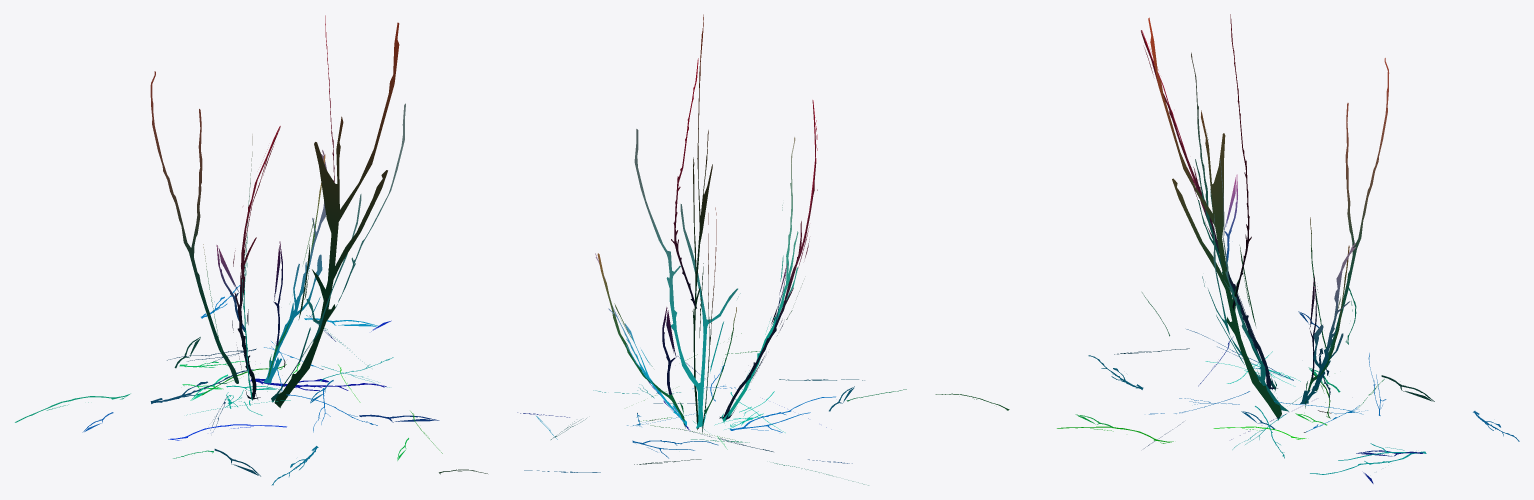
File: Dead_Shrubs_vdknafgha_Raw_vdknafgha_VarA_LOD0.fbx
The picture shows the model from 3 angles, left to right: view 1: azimuth 30°, elevation 25°; view 2: azimuth 150°, elevation 25°; view 3: azimuth 270°, elevation 25°; orthographic projection. The views are drawn at different scales.
Parts seen in each view (by area): view 1: _l1n5_VarA_High; view 2: _l1n5_VarA_High; view 3: _l1n5_VarA_High.
Boxes of the visible parts, x1,y1,x2,y2 form: _l1n5_VarA_High: (15, 15, 487, 485); _l1n5_VarA_High: (517, 14, 906, 485); _l1n5_VarA_High: (935, 14, 1519, 483).
Bounding box in the file's own units: 29.36 × 29.94 × 36.76.
